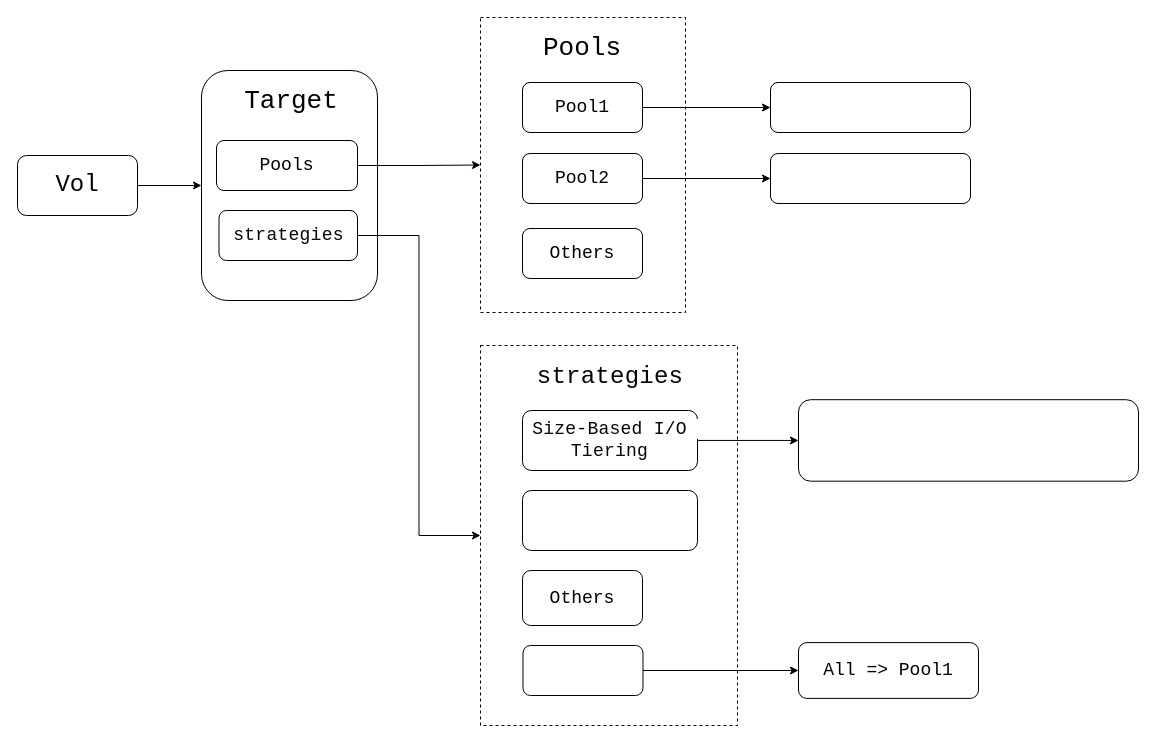
Image size: 1156x743. Some labels were removed from this diagram. The centre of each missing label's shape, as x and y in pixels:
Ceph RADOS: the point at 870,107
Default: the point at 582,670
Hot and Cold Data Tiering: the point at 610,520
OSS / KS3: the point at 870,178
Slice len >= 4MB => Pool1 Slice len < 4MB => Pool2: the point at 968,440
